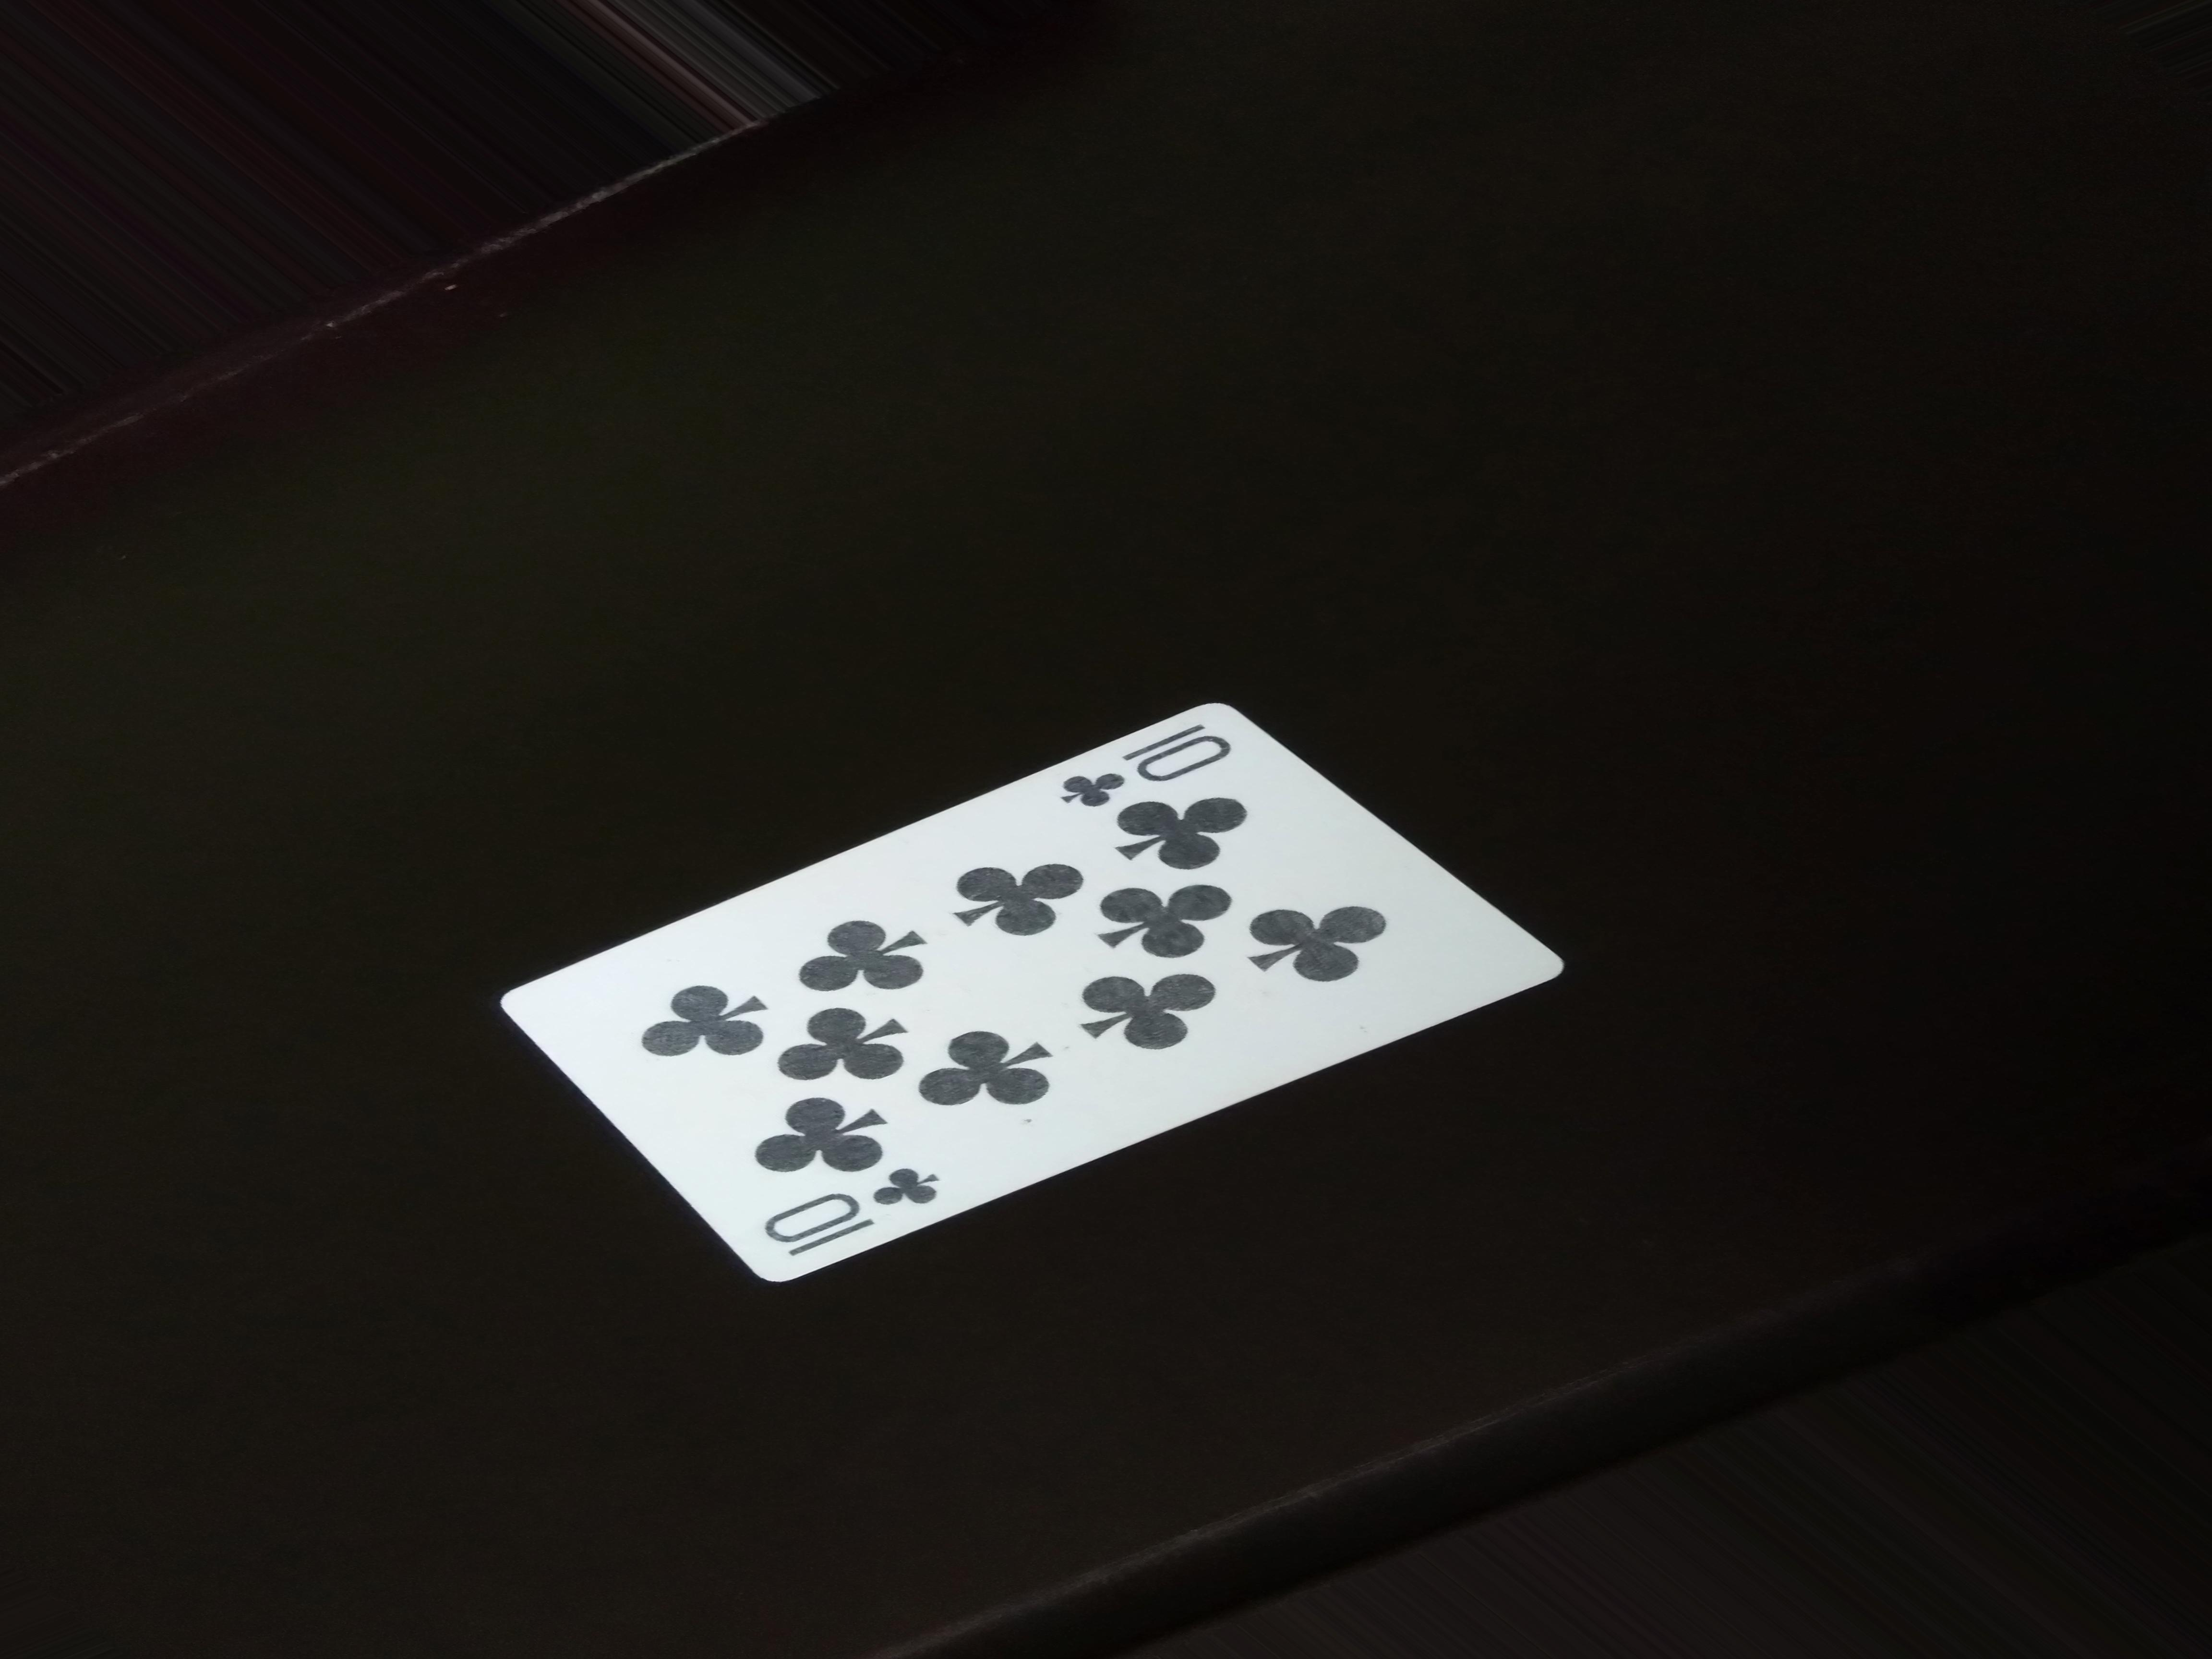10C: (766, 1164, 951, 1276)
